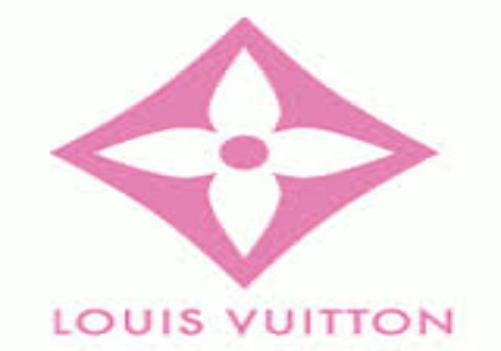LOUIS-VUITTON: (40, 287, 460, 349)
